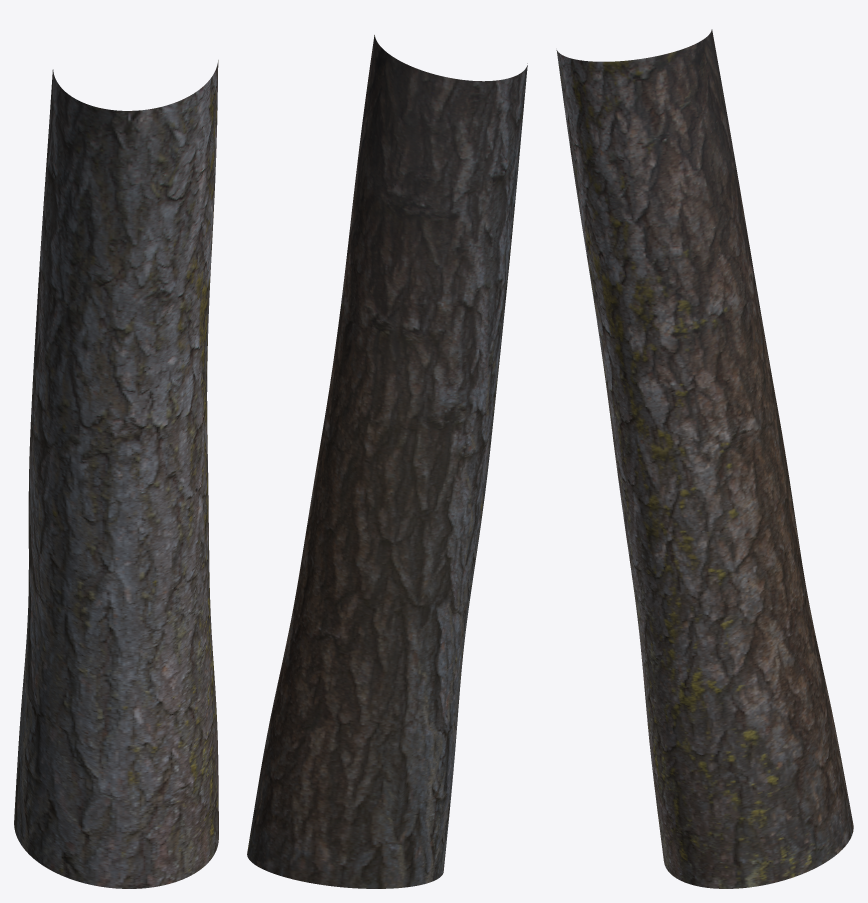
Rendered from tree_trunk.glb.
3 views of the same model, side by side, from view 1: azimuth 30°, elevation 25°; view 2: azimuth 150°, elevation 25°; view 3: azimuth 270°, elevation 25° (orthographic). The views are drawn at different scales.
Parts seen in each view (by area): view 1: pCylinder1; view 2: pCylinder1; view 3: pCylinder1.
Part boxes in pixels (box(x1,y1,x2,y2)): pCylinder1: box(14, 60, 218, 888); pCylinder1: box(247, 35, 527, 888); pCylinder1: box(556, 29, 853, 888).
Size of the model in its own units: 2.34 by 9.23 by 3.05.
Materials: 1 (1 with a texture image).
